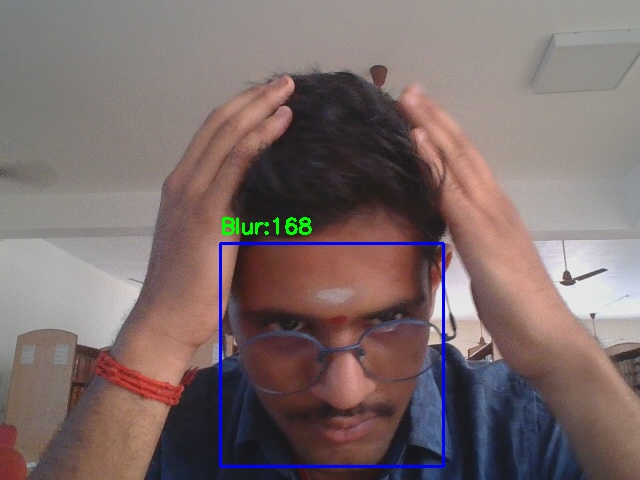real: (220, 243, 443, 466)
